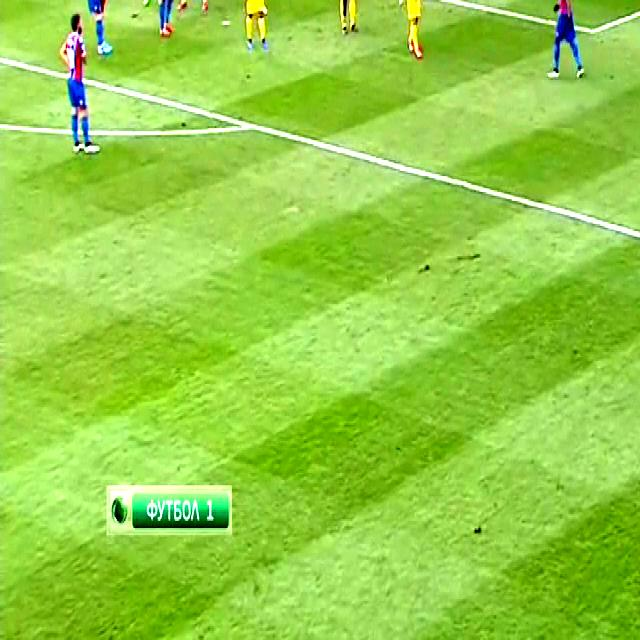soccer-player: (44, 13, 106, 162), (540, 0, 596, 92), (393, 0, 441, 71), (79, 0, 134, 53), (236, 0, 270, 50), (323, 0, 368, 37)
